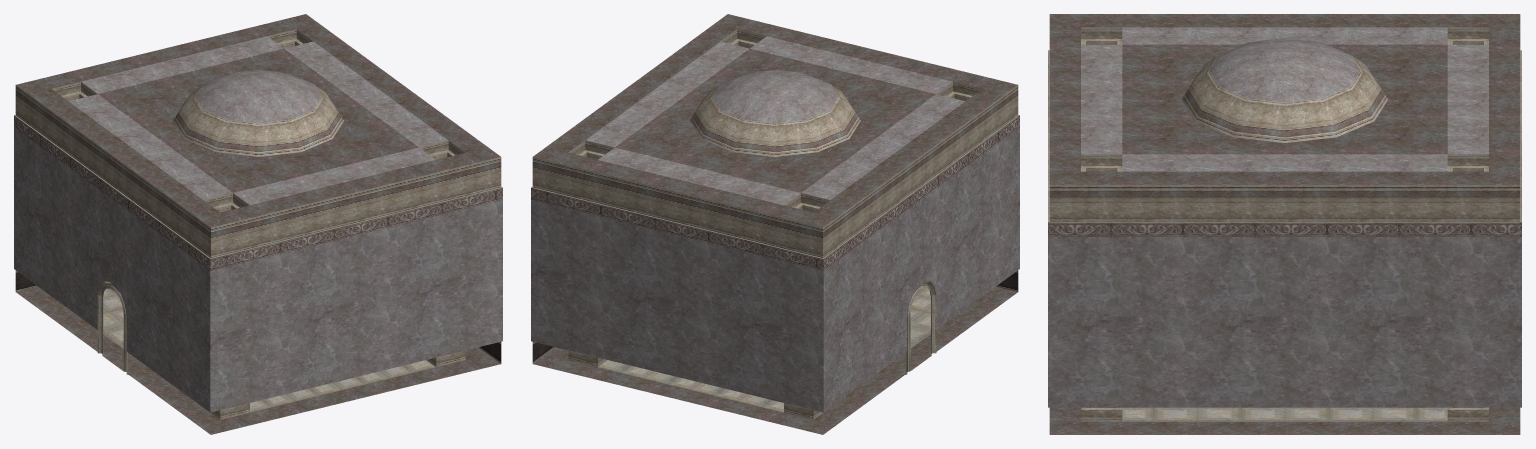
The model's file is mun_nboo_capitol_s01_r10_meeting5_mesh_meeting5.fbx.
3 views of the same model, side by side, from view 1: azimuth 30°, elevation 25°; view 2: azimuth 150°, elevation 25°; view 3: azimuth 270°, elevation 25° (orthographic). The views are drawn at different scales.
Parts seen in each view (by area): view 1: mesh_node; view 2: mesh_node; view 3: mesh_node.
Part boxes in pixels (x1=…): mesh_node: x1=14, y1=14, x2=502, y2=434; mesh_node: x1=531, y1=14, x2=1019, y2=434; mesh_node: x1=1048, y1=14, x2=1521, y2=434.
Size of the model in its own units: 12.96 by 10.44 by 15.07.
